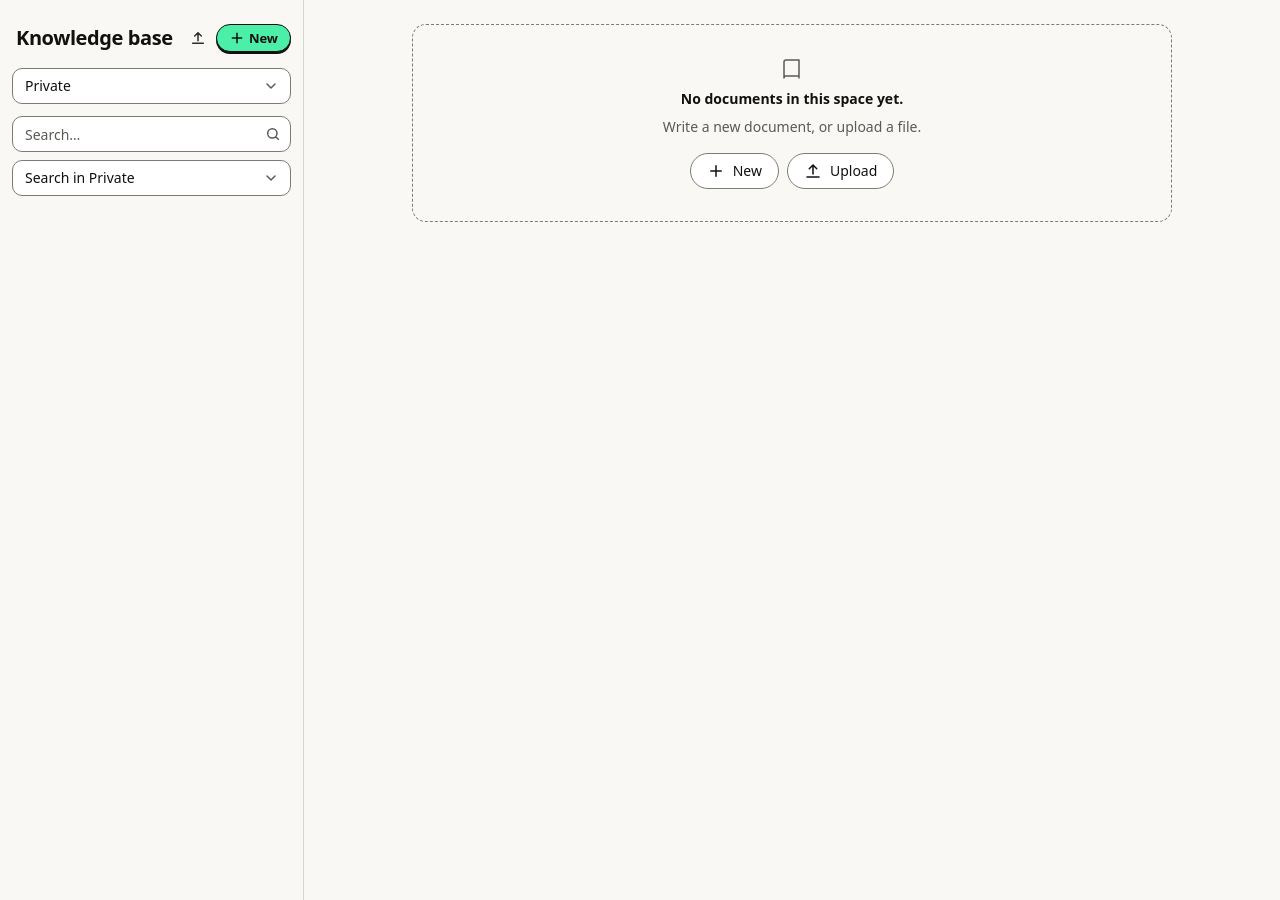
it: searches the space shown, and shows matches as marked text, never markup
Check: the text "No documents in this space yet." is shown, box [681,89,903,109]
Step 1. Type "  orchard plan " into the search field named "Search the knowledge base" → point(152, 134), box [12,116,291,152]
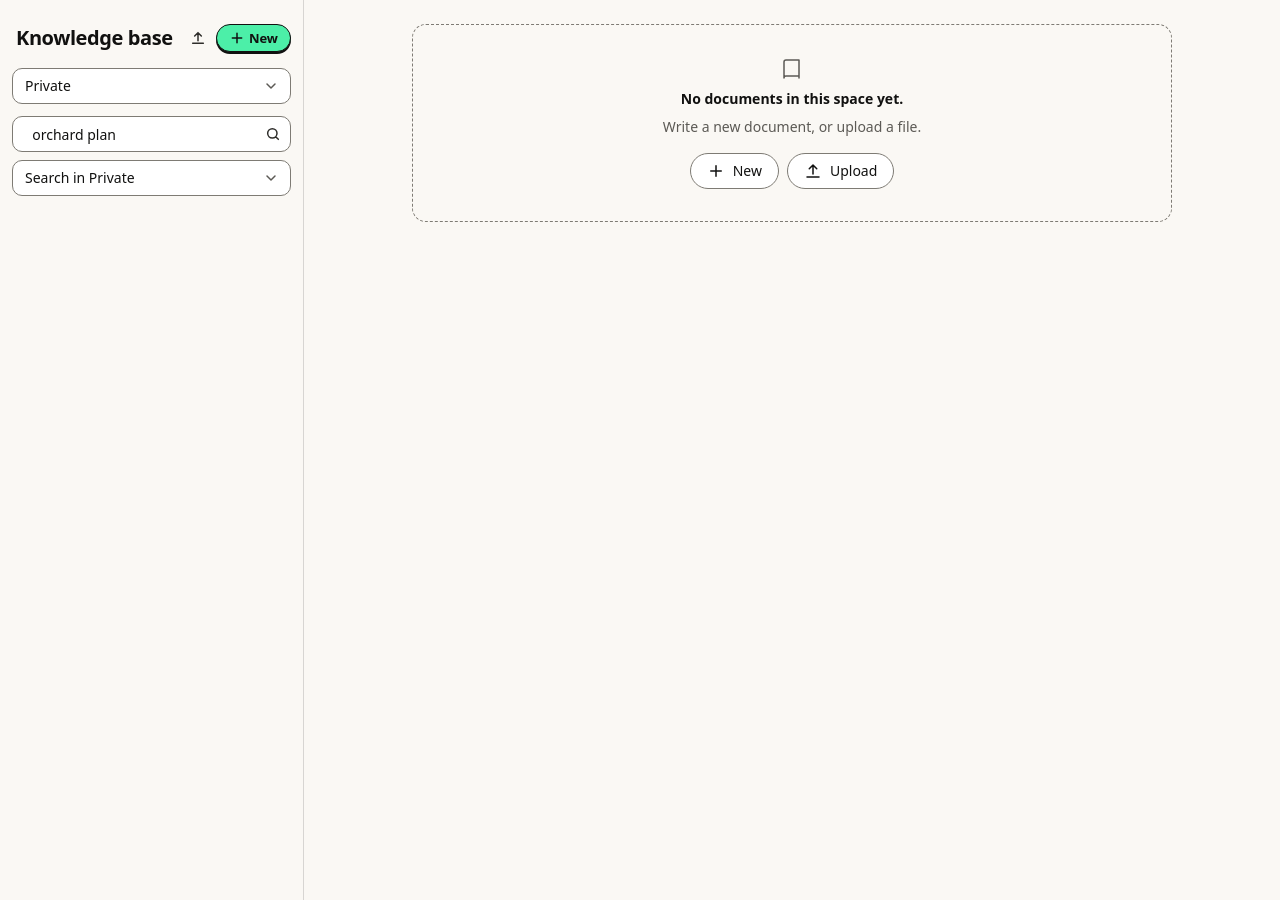
Step 2. Click the button named "Search" → point(273, 134), box [259,120,287,148]
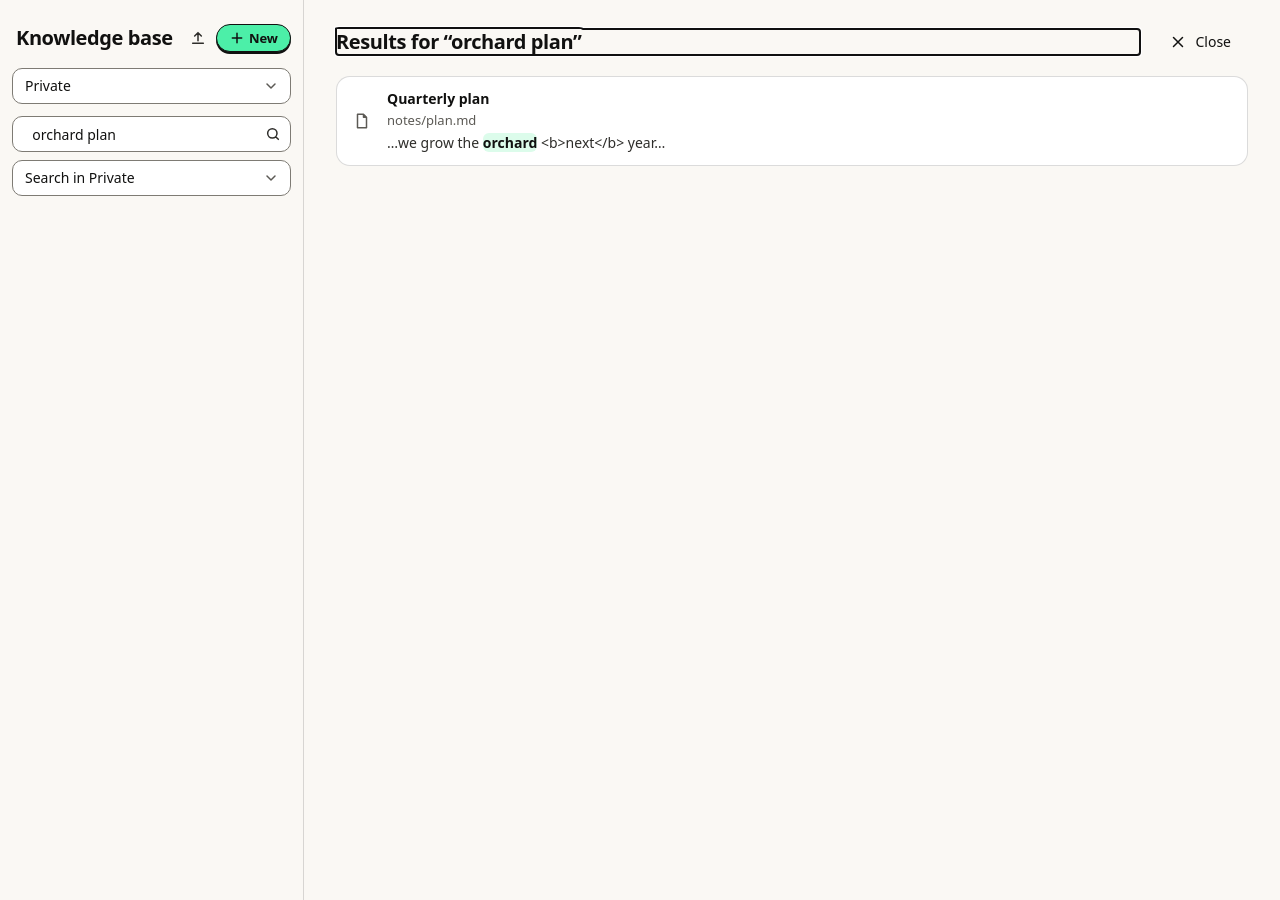
Check: the text "notes/plan.md" is shown, box [387,111,476,129]
Step 3. Click the button "Close" → point(1200, 42), box [1152,24,1248,60]
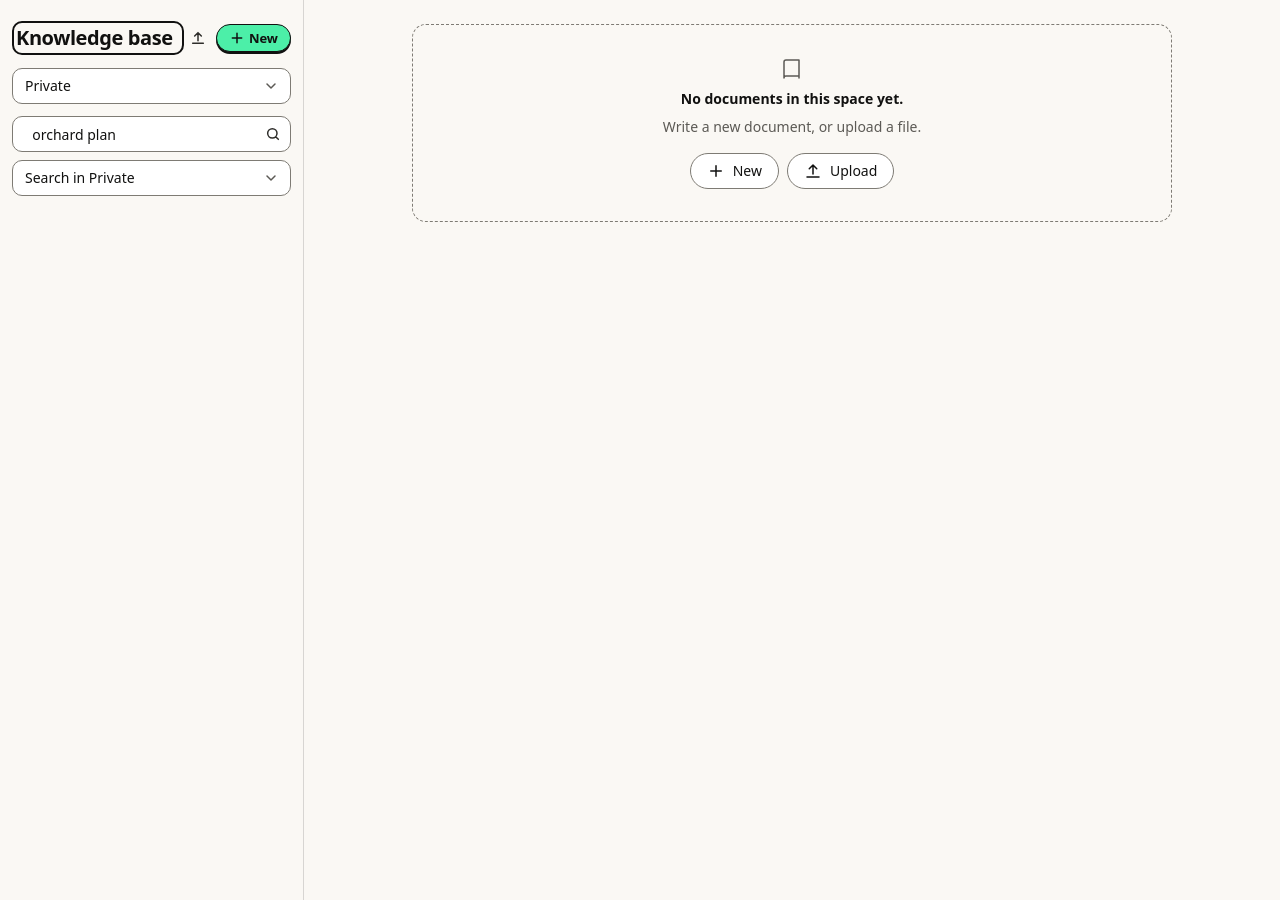
Check: the text "No documents in this space yet." is shown, box [681,89,903,109]
